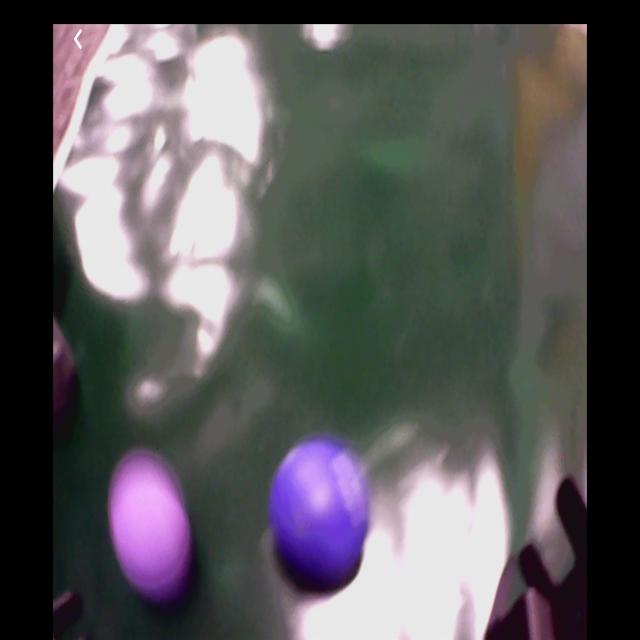ball: (273, 440, 369, 586), (107, 453, 194, 599)
